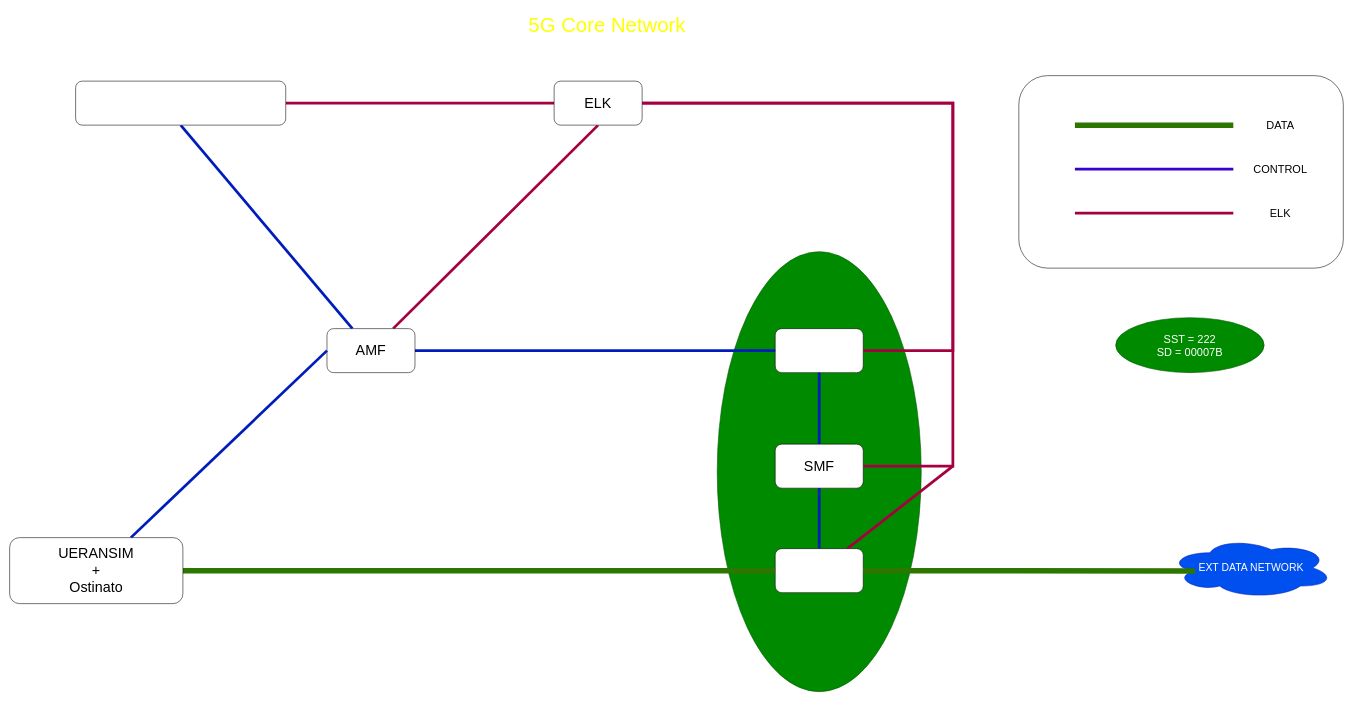
The diagram is 1353 pixels wide and 701 high, and some of its shapes have lost their labels. The shapes that lost their labels are listed below. From the top down, each one's centre as x and y in pixels, then its label:
(x=180, y=103): UASF/UDM/UDR
(x=819, y=350): NRF
(x=819, y=570): VPP UPF
